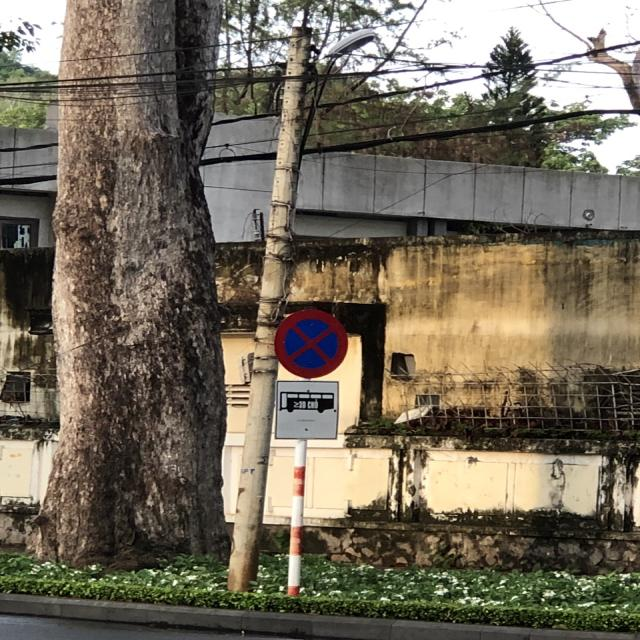Bien bao cam dung xe va do xe: (269, 304, 350, 382)
